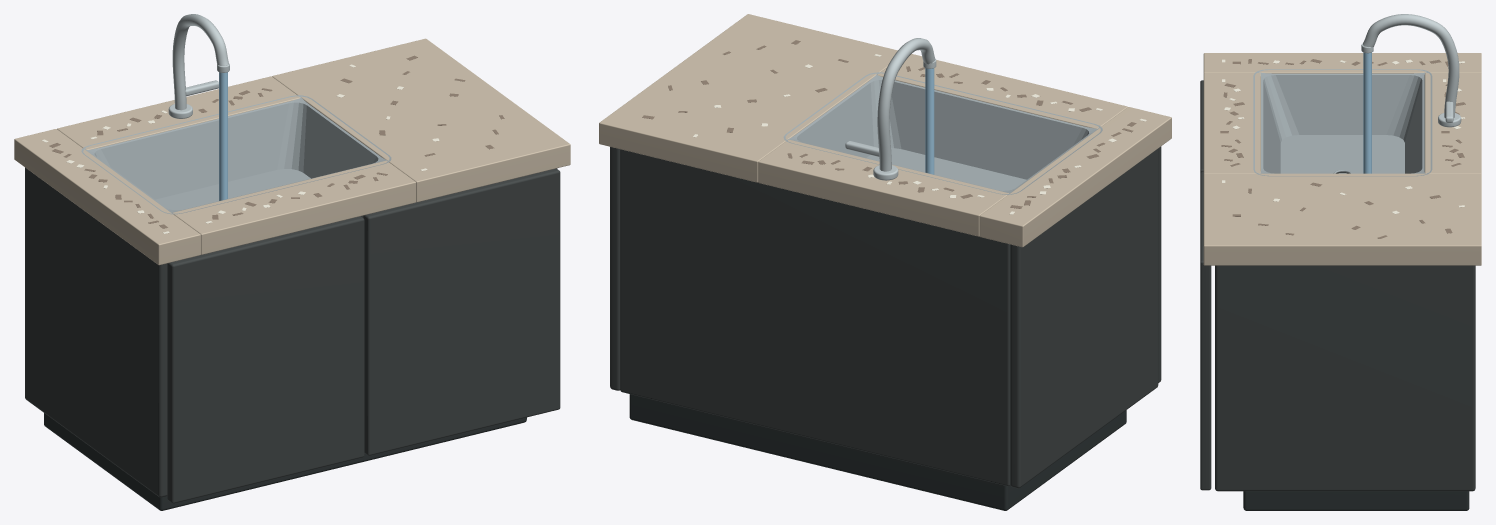
The model's file is kitchenModernSinkCharcoal.glb.
The picture shows the model from 3 angles, left to right: view 1: azimuth 30°, elevation 25°; view 2: azimuth 150°, elevation 25°; view 3: azimuth 270°, elevation 25°; orthographic projection. The views are drawn at different scales.
Visible parts, largest first — view 1: Handleless sink cabinet door, Handleless sink cabinet door.001, Sink cabinet side, Thick stone worktop.001, Recessed sink bowl, Thick stone worktop.002, Thick stone worktop, Thick stone worktop.003, Recessed kitchen plinth, Curved mixer tap, Interaction water; view 2: Sink cabinet back, Sink cabinet side, Thick stone worktop.001, Recessed sink bowl, Recessed kitchen plinth, Thick stone worktop.003, Thick stone worktop, Thick stone worktop.002, Sink cabinet side.001, Curved mixer tap, Interaction water, Handleless sink cabinet door; view 3: Sink cabinet side.001, Thick stone worktop.001, Recessed sink bowl, Thick stone worktop.002, Thick stone worktop, Thick stone worktop.003, Recessed kitchen plinth, Handleless sink cabinet door.001, Curved mixer tap, Interaction water, Handleless sink cabinet door.
Boxes of the visible parts, x1,y1,x2,y2 form: Handleless sink cabinet door: (167, 216, 364, 503); Handleless sink cabinet door.001: (363, 168, 560, 455); Sink cabinet side: (25, 167, 167, 497); Thick stone worktop.001: (272, 38, 570, 202); Recessed sink bowl: (81, 95, 391, 214); Thick stone worktop.002: (172, 160, 415, 254); Thick stone worktop: (14, 129, 200, 265); Thick stone worktop.003: (57, 76, 300, 149); Recessed kitchen plinth: (44, 413, 526, 510); Curved mixer tap: (172, 14, 228, 110); Interaction water: (219, 72, 227, 200); Sink cabinet back: (620, 149, 1010, 486); Sink cabinet side: (1010, 149, 1158, 488); Thick stone worktop.001: (599, 14, 897, 182); Recessed sink bowl: (783, 72, 1102, 194); Recessed kitchen plinth: (629, 394, 1126, 510); Thick stone worktop.003: (758, 139, 1008, 236); Thick stone worktop: (979, 107, 1171, 247); Thick stone worktop.002: (877, 54, 1127, 128); Sink cabinet side.001: (610, 147, 620, 390); Curved mixer tap: (877, 38, 935, 171); Interaction water: (925, 68, 934, 174); Handleless sink cabinet door: (1158, 146, 1161, 382); Sink cabinet side.001: (1215, 265, 1475, 491); Thick stone worktop.001: (1203, 173, 1481, 265); Recessed sink bowl: (1253, 69, 1432, 176); Thick stone worktop.002: (1203, 73, 1260, 173); Thick stone worktop: (1203, 53, 1481, 73); Thick stone worktop.003: (1424, 73, 1481, 173); Recessed kitchen plinth: (1243, 491, 1469, 510); Handleless sink cabinet door.001: (1200, 172, 1211, 490); Curved mixer tap: (1363, 14, 1459, 117); Interaction water: (1363, 52, 1371, 173); Handleless sink cabinet door: (1200, 80, 1203, 172).
Size of the model in its own units: 1.84 by 1.71 by 1.13.
